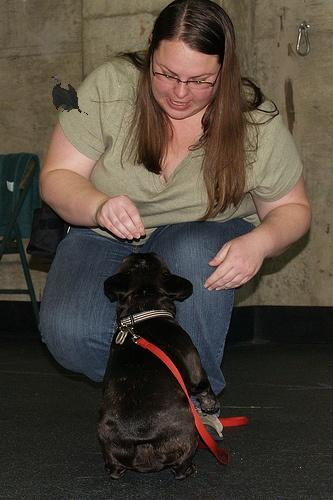tampered: (52, 77, 106, 115)
